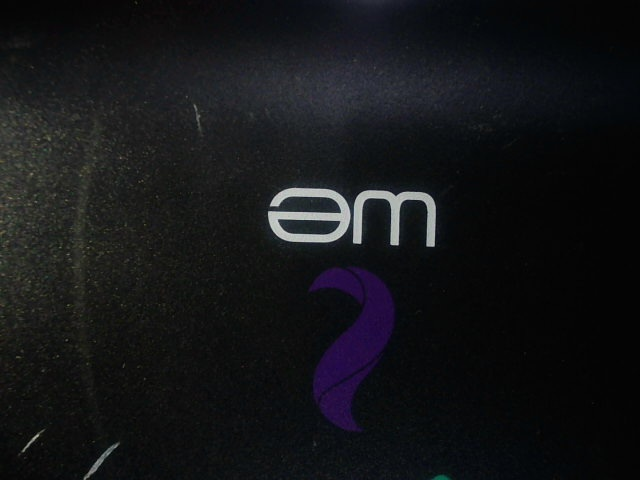AT_We: (263, 183, 446, 442)
